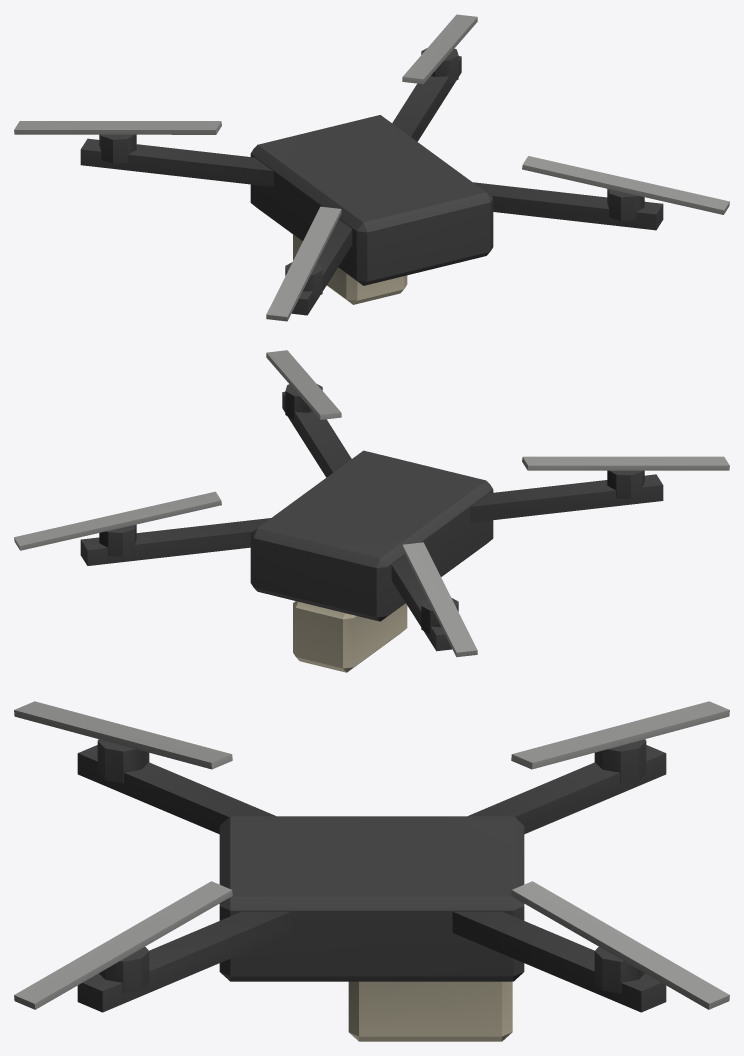
Rendered from rus_lm_upyr.glb.
The picture shows the model from 3 angles, top to bottom: view 1: azimuth 30°, elevation 25°; view 2: azimuth 150°, elevation 25°; view 3: azimuth 270°, elevation 25°; orthographic projection. The views are drawn at different scales.
Parts seen in each view (by area): view 1: body, propz_3, propz_1, propz_2, propz_0; view 2: body, propz_0, propz_2, propz_1, propz_3; view 3: body, propz_0, propz_3, propz_1, propz_2.
Boxes of the visible parts, <box> form: body: <box>80,48,663,315</box>; propz_3: <box>522,156,729,214</box>; propz_1: <box>14,121,221,134</box>; propz_2: <box>266,206,341,321</box>; propz_0: <box>402,14,477,84</box>; body: <box>80,384,663,672</box>; propz_0: <box>14,491,221,550</box>; propz_2: <box>522,456,729,470</box>; propz_1: <box>402,542,477,657</box>; propz_3: <box>266,350,341,419</box>; body: <box>77,739,666,1041</box>; propz_0: <box>511,881,729,1009</box>; propz_3: <box>14,881,232,1009</box>; propz_1: <box>511,701,729,769</box>; propz_2: <box>14,701,232,769</box>.
Size of the model in its own units: 0.6109 by 0.1923 by 0.6109.
